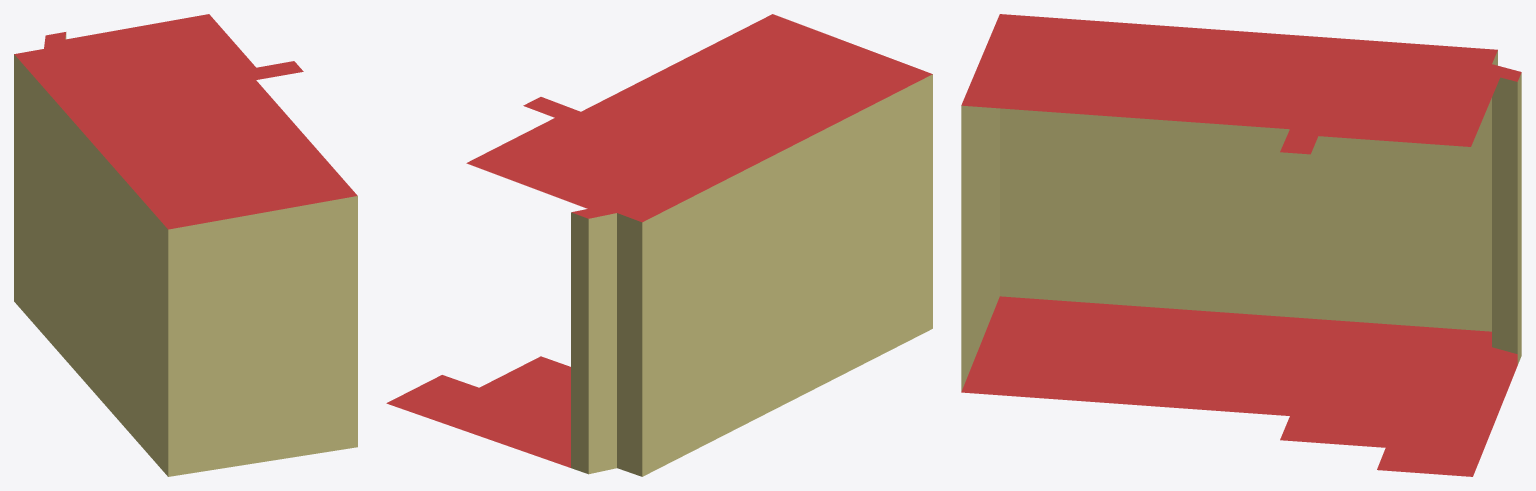
3 renders of one model, left to right at view 1: azimuth 30°, elevation 25°; view 2: azimuth 150°, elevation 25°; view 3: azimuth 270°, elevation 25°, orthographic. The views are drawn at different scales.
Bounding box in the file's own units: 9.27 × 12.15 × 6.89.
